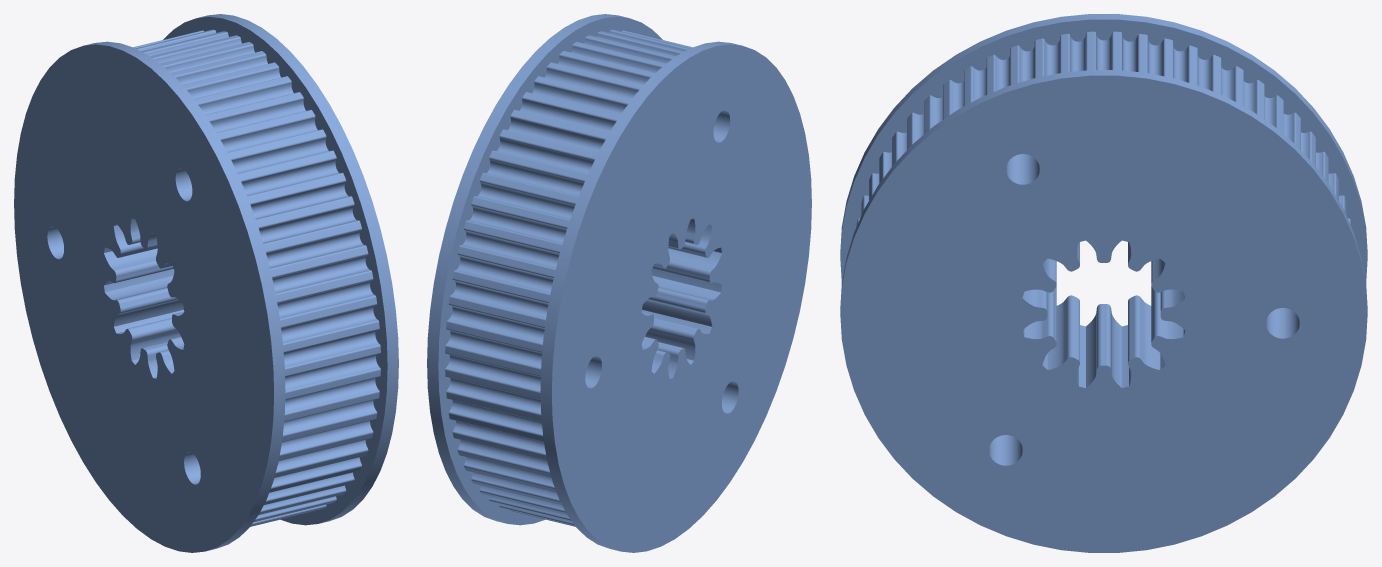
The model's file is Robot_Master Copy 1 - Part 5.gltf.
3 renders of one model, left to right at view 1: azimuth 30°, elevation 25°; view 2: azimuth 150°, elevation 25°; view 3: azimuth 270°, elevation 25°, orthographic.
Visible parts, largest first — view 1: Part 5; view 2: Part 5; view 3: Part 5.
Boxes of the visible parts, x1,y1,x2,y2 form: Part 5: (14,14,398,552); Part 5: (427,14,811,552); Part 5: (840,14,1367,552).
Bounding box in the file's own units: 0.011 × 0.0397 × 0.0397.
